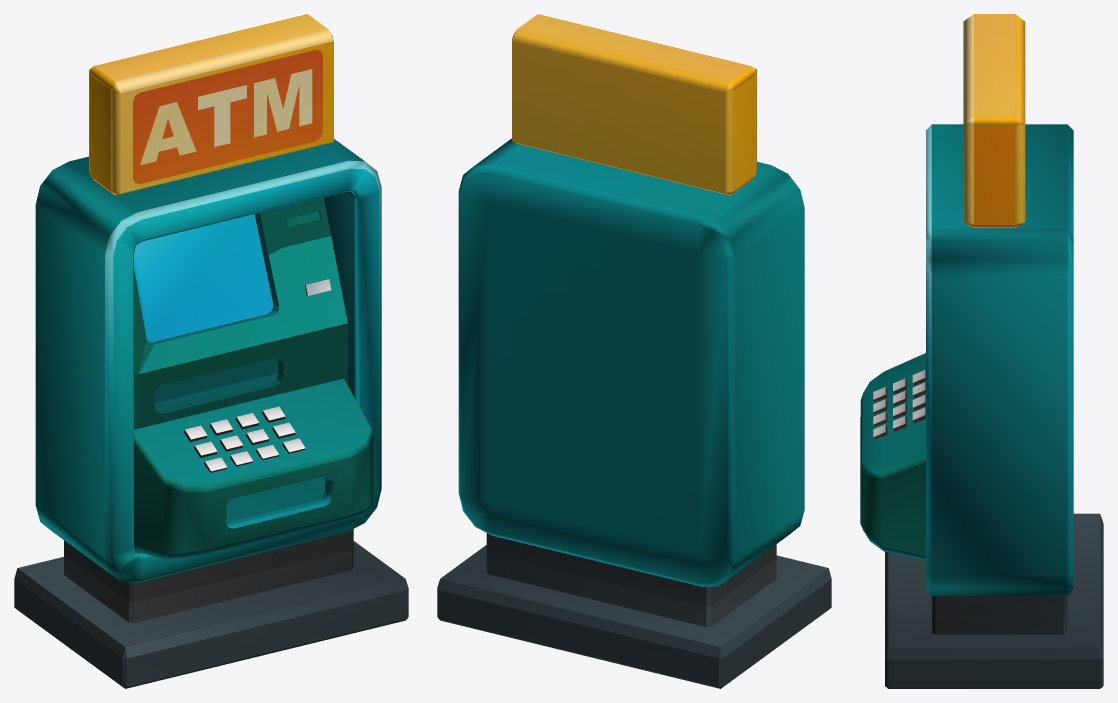
Rendered from ATM .fbx.
3 views of the same model, side by side, from view 1: azimuth 30°, elevation 25°; view 2: azimuth 150°, elevation 25°; view 3: azimuth 270°, elevation 25° (orthographic).
Visible parts, largest first — view 1: R2F_ATM; view 2: R2F_ATM; view 3: R2F_ATM.
Boxes of the visible parts, x1,y1,x2,y2 form: R2F_ATM: (14,14,408,688); R2F_ATM: (437,14,831,688); R2F_ATM: (860,14,1103,688).
Size of the model in its own units: 0.2587 by 0.49 by 0.1939.
